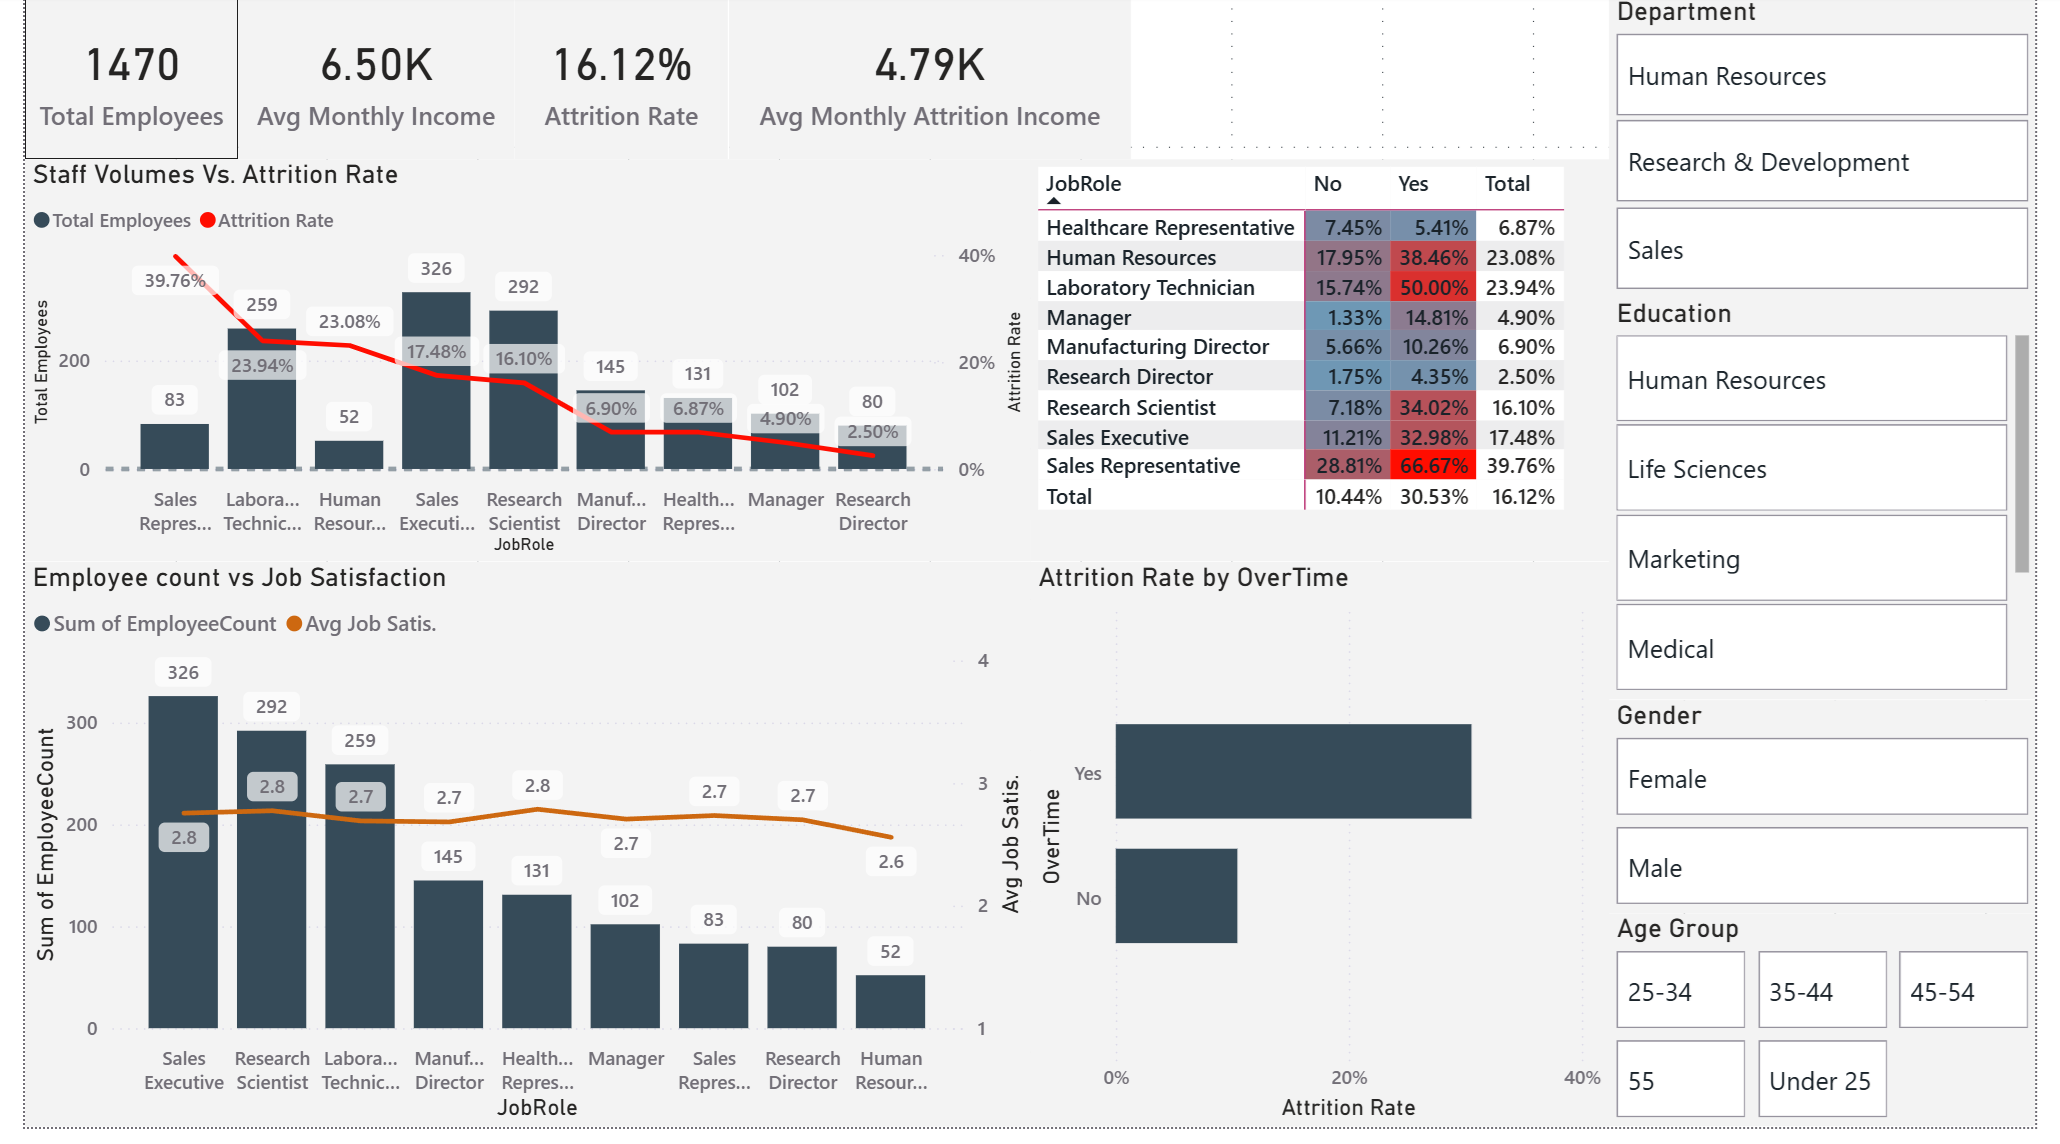

Layout of this report page (visuals, bound fields, positions):
{"tool":"powerbi","page":{"name":"Page 1","canvas":[1280,720],"ordinal":0},"visuals":[{"type":"card","fields":{"Values":["HREmployee.Total Employees"]},"box":[0,0,136,104],"z":0},{"type":"card","fields":{"Values":["HREmployee.Attrition Rate"]},"box":[312,0,136,104],"z":1000},{"type":"card","fields":{"Values":["HREmployee.Average Monthly  Income"]},"box":[136,0,176,104],"z":2000},{"type":"card","fields":{"Values":["HREmployee.Avg Monthly Attrition Income"]},"box":[448,0,256,104],"z":3000},{"type":"lineStackedColumnComboChart","title":"Employee count vs Job Satisfaction","fields":{"Category":["HREmployee.JobRole"],"Y":["Sum(HREmployee.EmployeeCount)"],"Y2":["HREmployee.Avg Job Satis."]},"box":[0,360,640,360],"z":4000},{"type":"lineStackedColumnComboChart","title":"Staff Volumes Vs. Attrition Rate","fields":{"Category":["HREmployee.JobRole"],"Y":["HREmployee.Total Employees"],"Y2":["HREmployee.Attrition Rate"]},"box":[0,104,640,256],"z":5000},{"type":"advancedSlicerVisual","fields":{"Values":["HREmployee.Gender"]},"box":[1008,448,272,136],"z":6000},{"type":"advancedSlicerVisual","title":"Education","fields":{"Values":["HREmployee.EducationField"]},"box":[1008,192,272,256],"z":7000},{"type":"advancedSlicerVisual","fields":{"Values":["HREmployee.Department"]},"box":[1008,0,272,192],"z":8000},{"type":"advancedSlicerVisual","fields":{"Values":["HREmployee.Age Group"]},"box":[1008,584,272,136],"z":9000},{"type":"clusteredBarChart","fields":{"Category":["HREmployee.OverTime"],"Y":["HREmployee.Attrition Rate"]},"box":[640,360,368,360],"z":10000},{"type":"pivotTable","fields":{"Rows":["HREmployee.JobRole"],"Columns":["HREmployee.OverTime","HREmployee.JobSatisfaction"],"Values":["HREmployee.Attrition Rate"]},"box":[640,104,368,256],"z":11000}]}

Visuals, with their boxes in screenshot pixels (x1, y1, x2, y2), scaled from the page's 1280x720 canvas onto the 2060x1144 screenshot:
card - HREmployee.Total Employees: (left=0, top=0, right=219, bottom=165)
card - HREmployee.Attrition Rate: (left=502, top=0, right=721, bottom=165)
card - HREmployee.Average Monthly  Income: (left=219, top=0, right=502, bottom=165)
card - HREmployee.Avg Monthly Attrition Income: (left=721, top=0, right=1133, bottom=165)
"Employee count vs Job Satisfaction" lineStackedColumnComboChart: (left=0, top=572, right=1030, bottom=1143)
"Staff Volumes Vs. Attrition Rate" lineStackedColumnComboChart: (left=0, top=165, right=1030, bottom=572)
advancedSlicerVisual - HREmployee.Gender: (left=1622, top=712, right=2059, bottom=928)
"Education" advancedSlicerVisual: (left=1622, top=305, right=2059, bottom=712)
advancedSlicerVisual - HREmployee.Department: (left=1622, top=0, right=2059, bottom=305)
advancedSlicerVisual - HREmployee.Age Group: (left=1622, top=928, right=2059, bottom=1143)
clusteredBarChart - HREmployee.OverTime x HREmployee.Attrition Rate: (left=1030, top=572, right=1622, bottom=1143)
pivotTable - HREmployee.JobRole x HREmployee.OverTime: (left=1030, top=165, right=1622, bottom=572)
